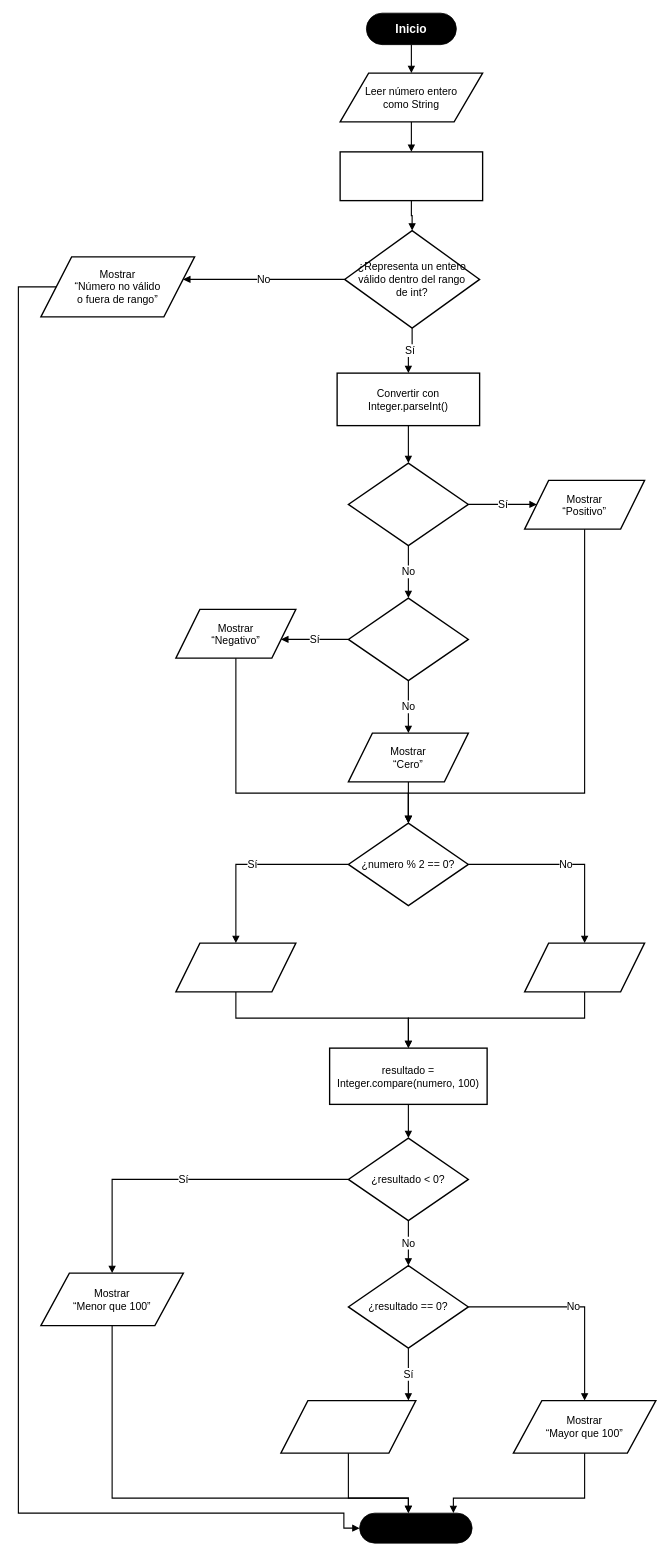
The diagram is 670 pixels wide and 1556 high, and some of its shapes have lost their labels. The centre of each missing label's shape, as x and y in pixels:
"Eliminar espacios exteriores (trim)" goes at (x=411, y=176).
"Fin" goes at (x=415, y=1527).
"Mostrar “Igual a 100”" goes at (x=348, y=1426).
"Mostrar “Impar”" goes at (x=584, y=967).
"Mostrar “Par”" goes at (x=235, y=967).
"¿numero < 0?" goes at (x=408, y=639).
"¿numero > 0?" goes at (x=408, y=504).
